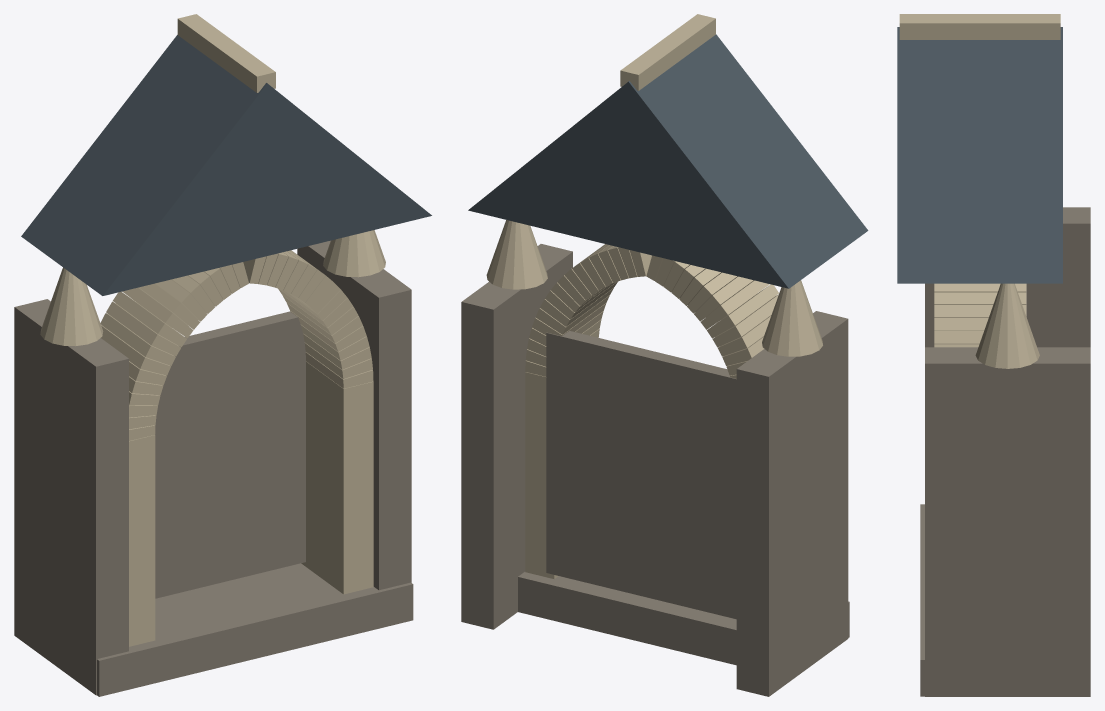
Rendered from HeartBlindBay_LOD0.fbx.
3 renders of one model, left to right at view 1: azimuth 30°, elevation 25°; view 2: azimuth 150°, elevation 25°; view 3: azimuth 270°, elevation 25°, orthographic. The views are drawn at different scales.
Visible parts, largest first — view 1: HeartBlindBay_LOD0; view 2: HeartBlindBay_LOD0; view 3: HeartBlindBay_LOD0.
Boxes of the visible parts, box(x1,y1,x2,y2) form: HeartBlindBay_LOD0: box(14, 14, 431, 696); HeartBlindBay_LOD0: box(461, 14, 868, 696); HeartBlindBay_LOD0: box(897, 14, 1090, 696).
Size of the model in its own units: 430 by 720 by 210.
